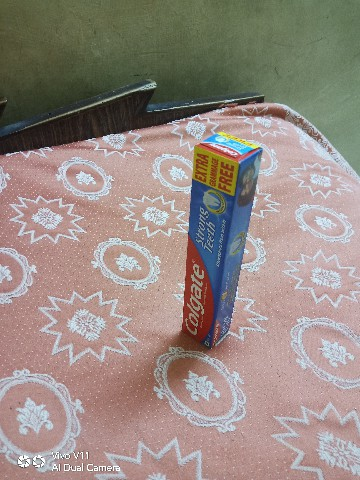colgatetoothpaste big: (166, 121, 268, 361)
